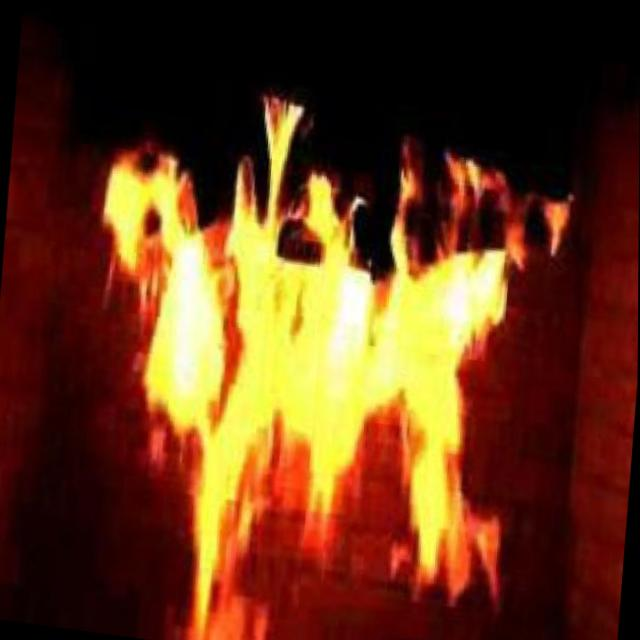Fire: (155, 201, 491, 640)
